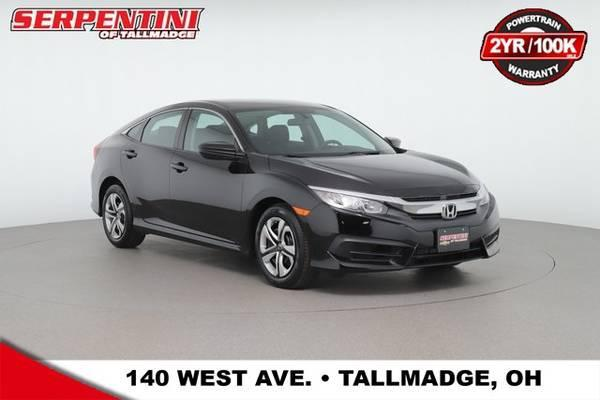Front_Fender: (241, 155, 340, 252)
Front_Right_Door: (170, 150, 248, 251)
Front_Right_Window: (177, 109, 247, 161)
Front_Windshield: (236, 109, 402, 160)
Hood: (270, 154, 481, 201)
Left_Headlight: (475, 172, 490, 206)
Rear_Fender: (89, 121, 145, 216)
Rear_Right_Door: (121, 138, 178, 233)
Rear_Right_Window: (134, 109, 191, 152)
Right_Headlight: (307, 185, 390, 215)
Roof: (108, 97, 332, 151)
Wheel: (303, 193, 502, 271), (251, 205, 308, 285), (98, 184, 145, 248)
